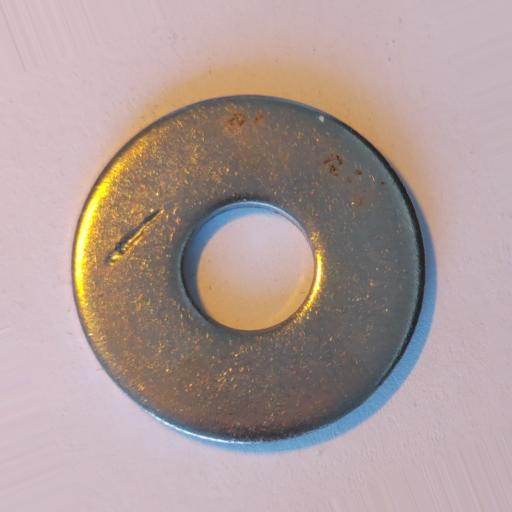scratch: (105, 207, 165, 268)
